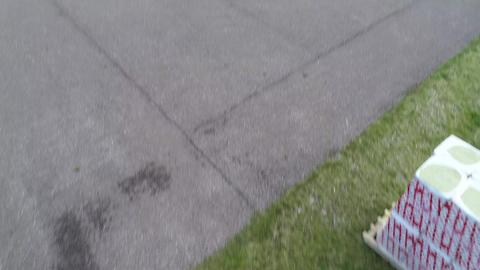RockwoolPallet: (369, 134, 479, 270)
